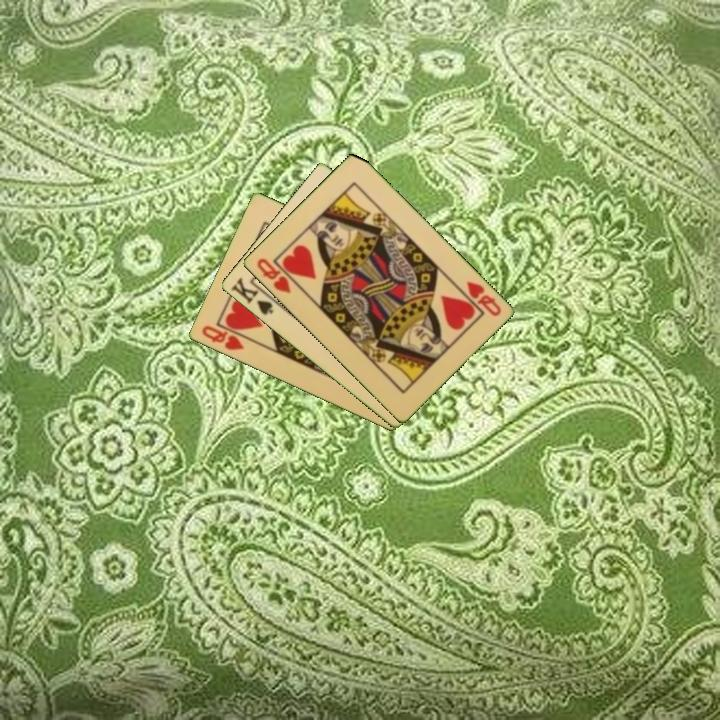Ks: (227, 274, 282, 318)
Qh: (198, 321, 253, 354), (253, 255, 294, 297), (462, 278, 504, 319)
